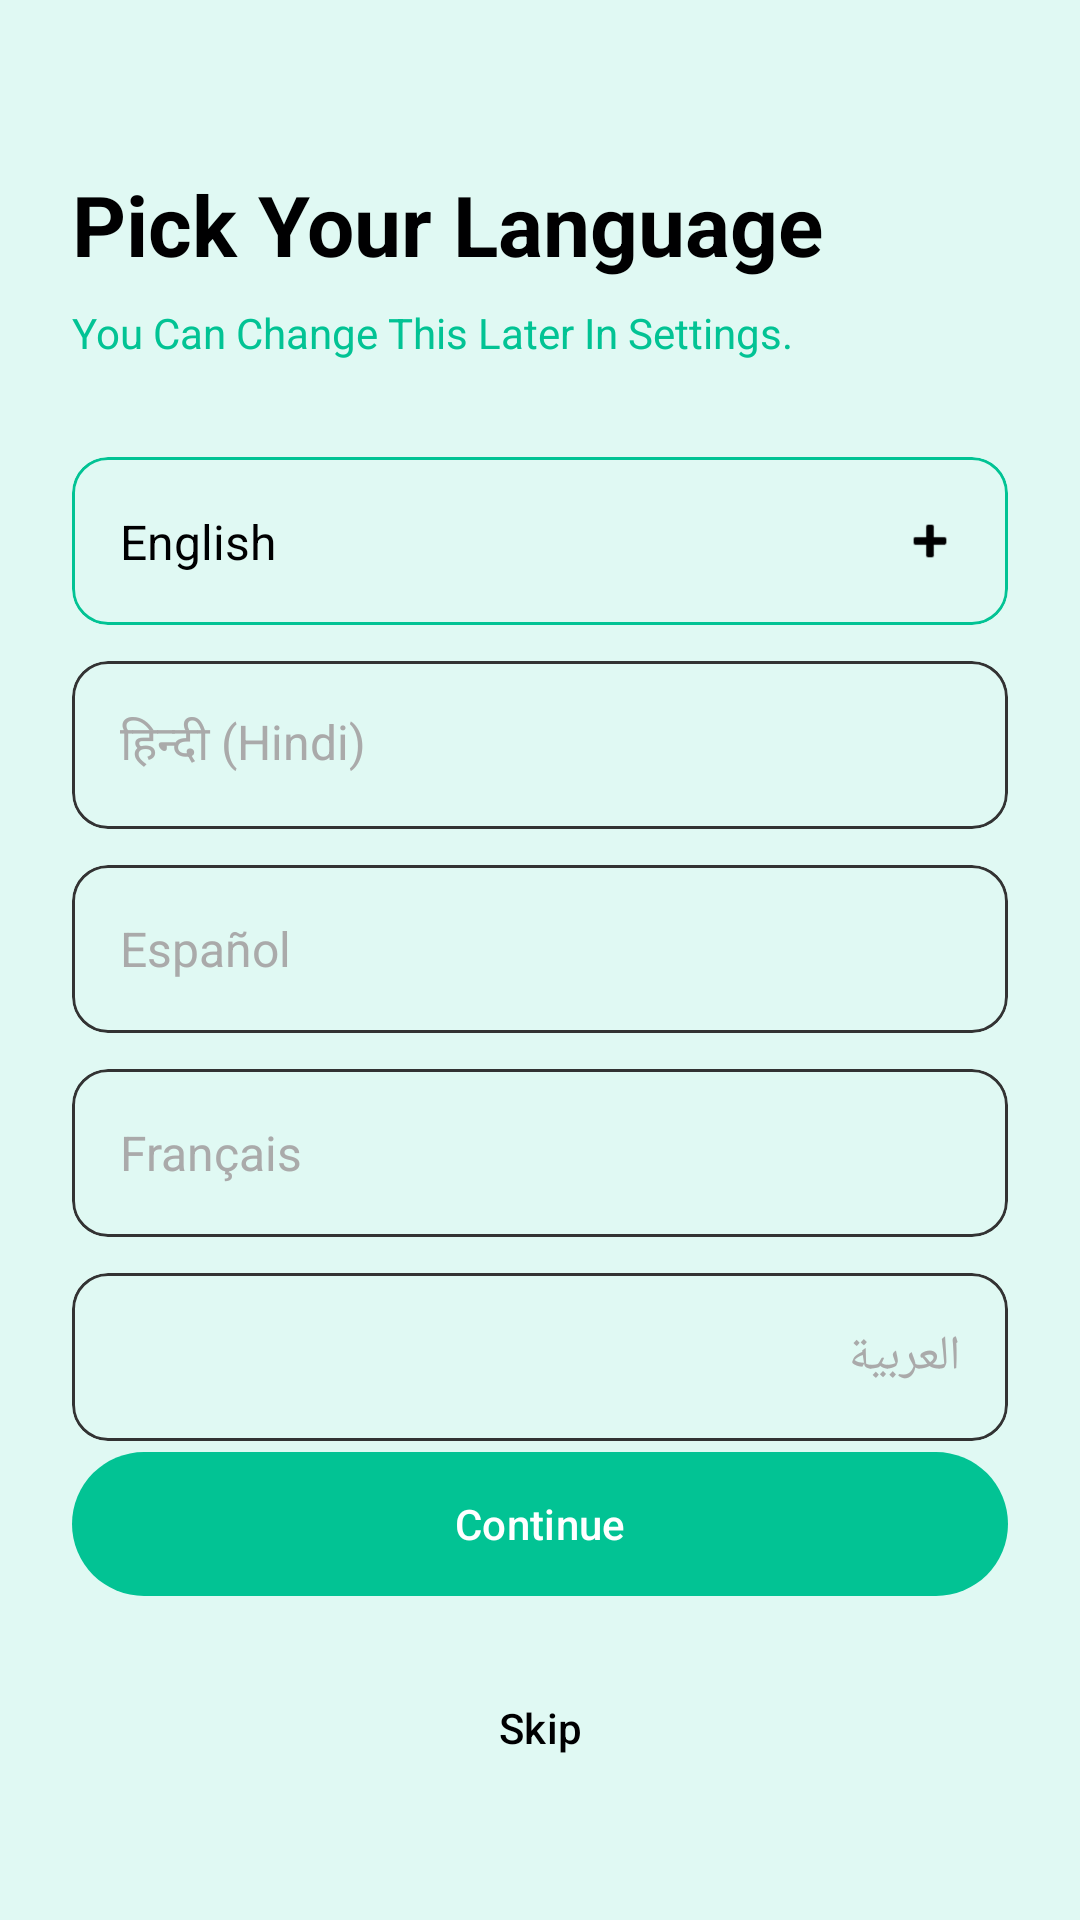

Screen size 1080 × 1920. Icon name, then its box in pixels as bbox(x1, y1, x2, y2):
add: bbox(913, 524, 947, 558)
